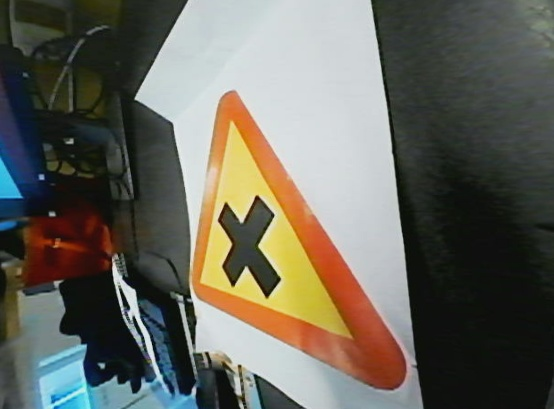junction: (168, 78, 411, 392)
